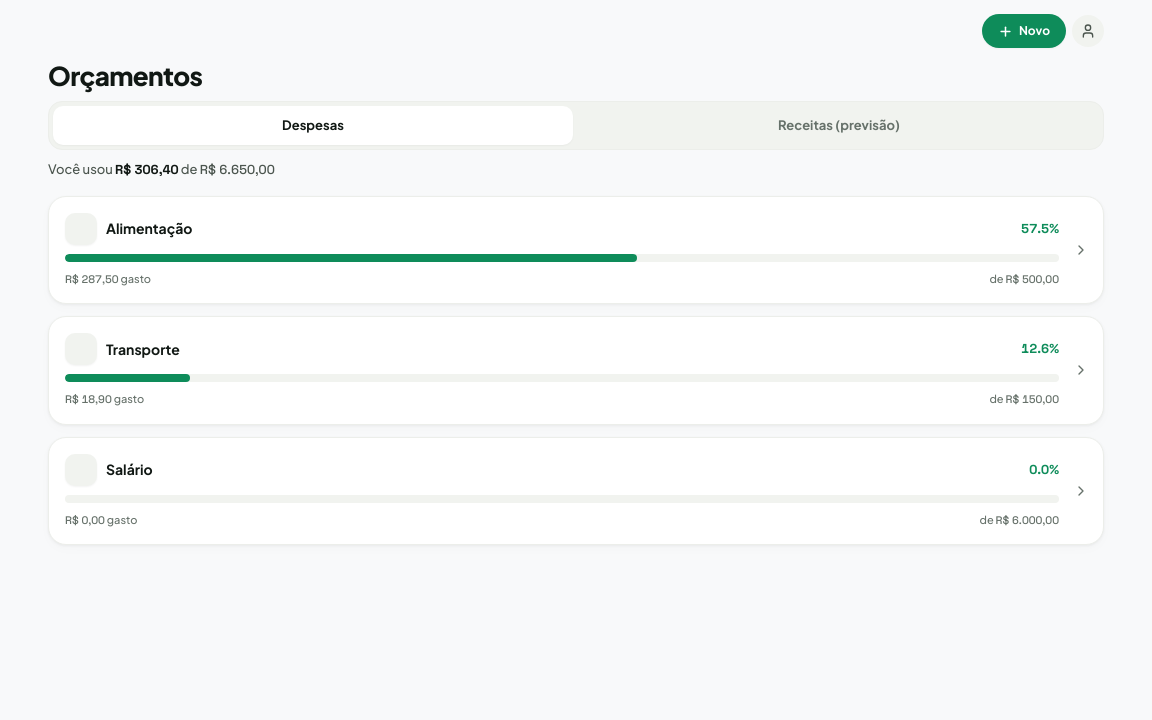
Test case: BudgetsPage › edge branches › shows empty-state when no income categories exist
Click the button "Novo" at (1024, 31), box [982,14,1066,48]
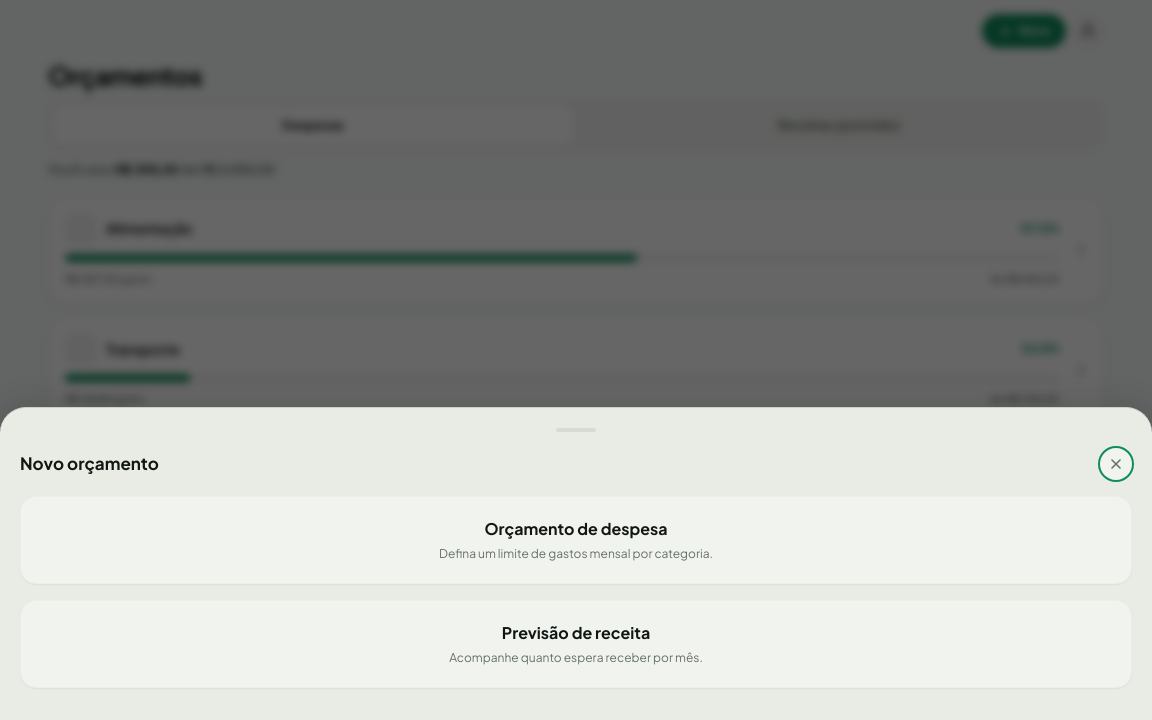
Click the text "Previsão de receita" at (576, 632), box [502,622,650,643]
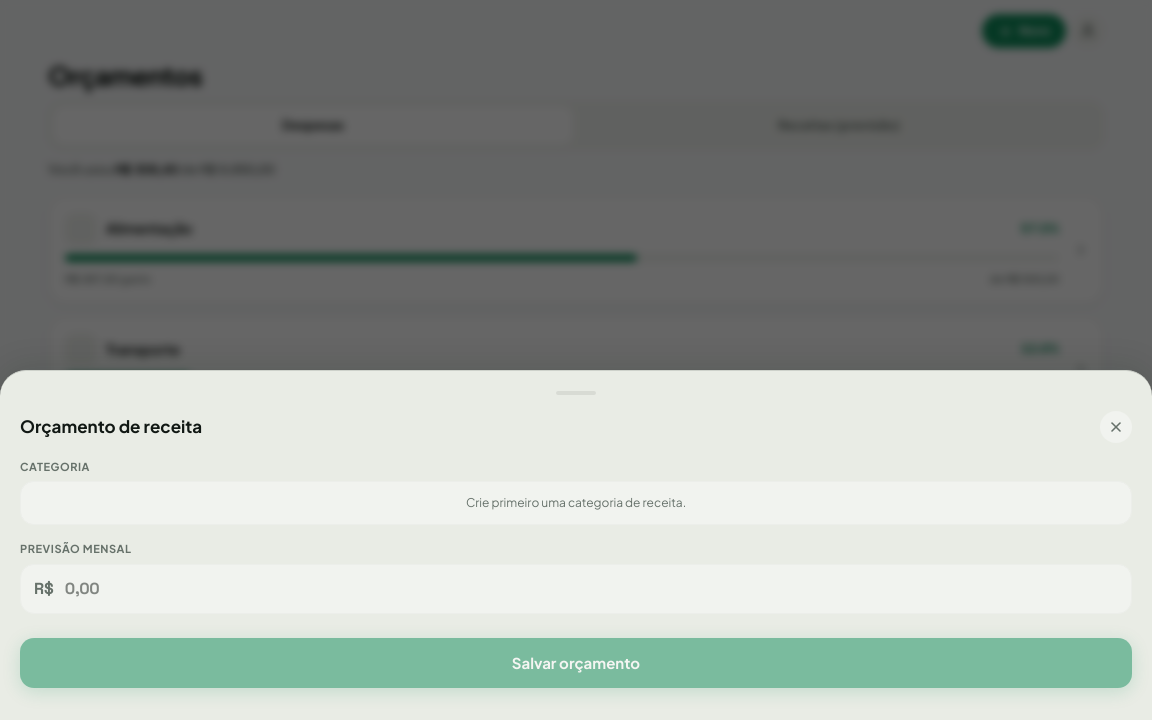
Expected: the text "Crie primeiro uma categoria de receita." is shown, [20,481,1132,525]
